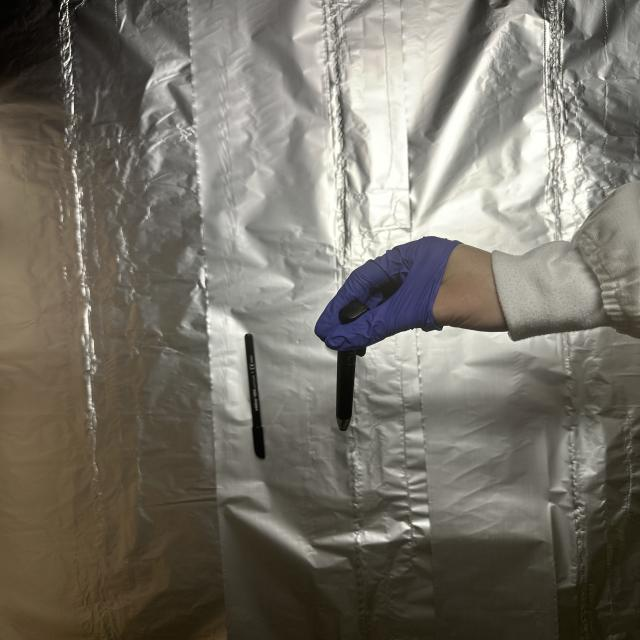glove_partial: (311, 234, 525, 340)
